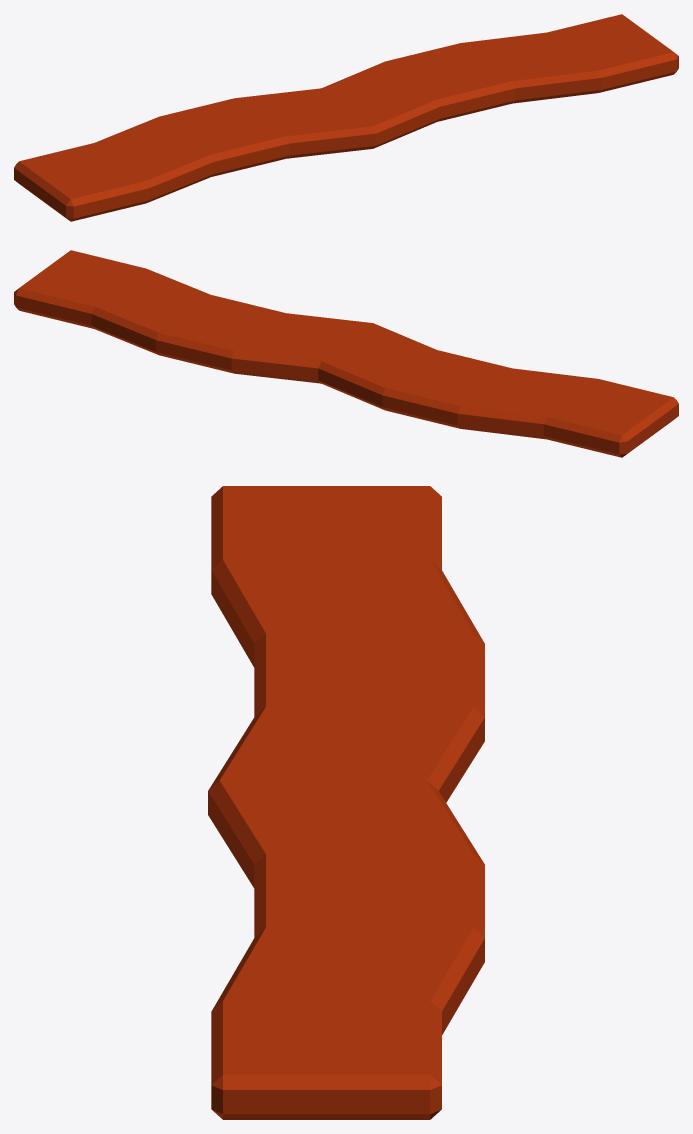
Rendered from bacon.fbx.
3 views of the same model, one above another, from view 1: azimuth 30°, elevation 25°; view 2: azimuth 150°, elevation 25°; view 3: azimuth 270°, elevation 25° (orthographic). The views are drawn at different scales.
Parts seen in each view (by area): view 1: Cube; view 2: Cube; view 3: Cube.
Boxes of the visible parts, x1=… form: Cube: x1=14, y1=14, x2=678, y2=221; Cube: x1=14, y1=250, x2=678, y2=457; Cube: x1=208, y1=486, x2=484, y2=1119.
Bounding box in the file's own units: 63.03 × 11.33 × 322.
